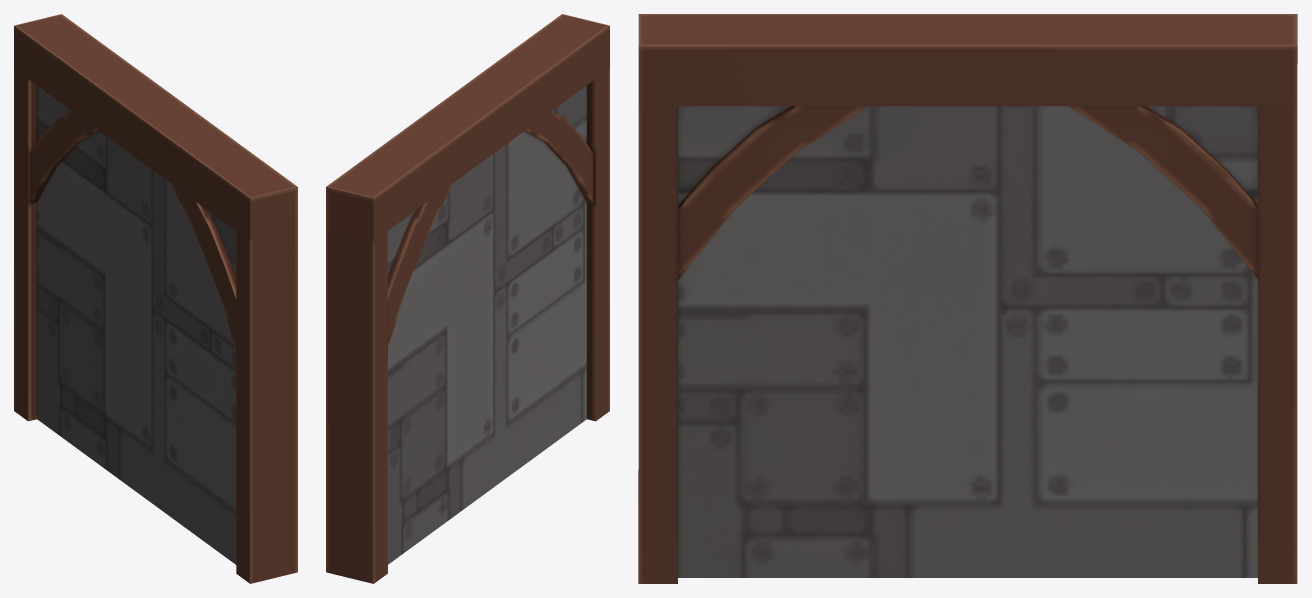
The model's file is TileSet11_Wall.fbx.
The picture shows the model from 3 angles, left to right: view 1: azimuth 30°, elevation 25°; view 2: azimuth 150°, elevation 25°; view 3: azimuth 270°, elevation 25°; orthographic projection. The views are drawn at different scales.
Visible parts, largest first — view 1: Interior_Navio:polySurface88; view 2: Interior_Navio:polySurface88; view 3: Interior_Navio:polySurface88.
Boxes of the visible parts, x1=… form: Interior_Navio:polySurface88: x1=14, y1=14, x2=297, y2=583; Interior_Navio:polySurface88: x1=326, y1=14, x2=609, y2=583; Interior_Navio:polySurface88: x1=638, y1=14, x2=1297, y2=583.
Size of the model in its own units: 0.465 by 3.59 by 3.99.
Materials: 2 (2 with a texture image).
